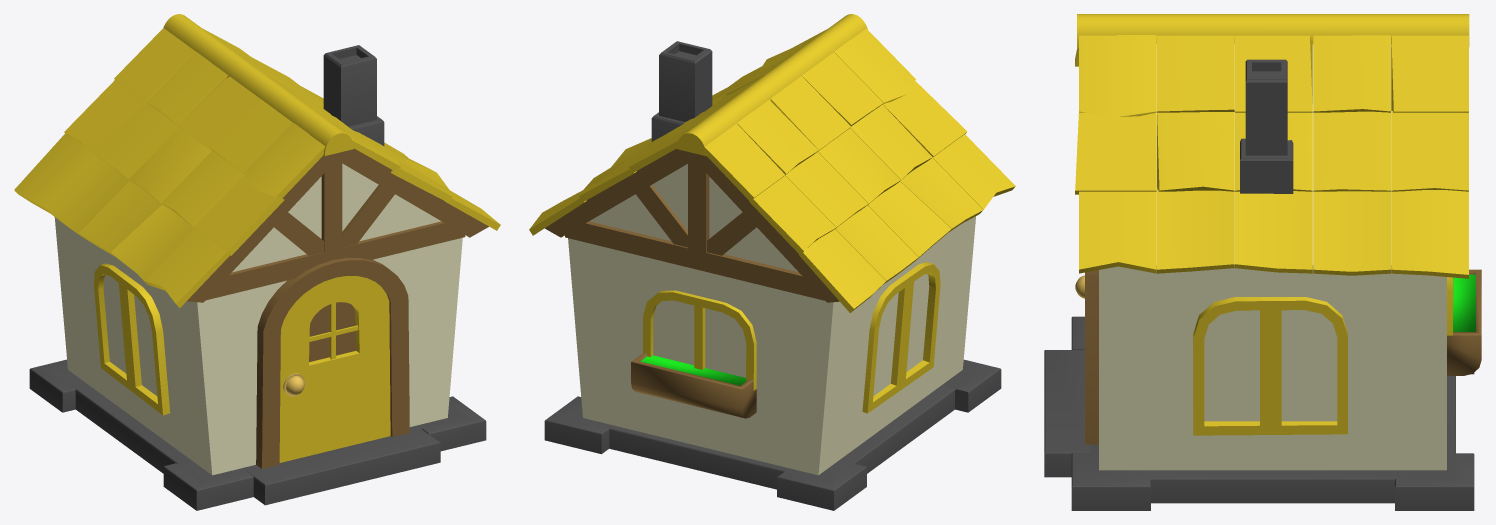
File: CASA AMARILLA.glb
The picture shows the model from 3 angles, left to right: view 1: azimuth 30°, elevation 25°; view 2: azimuth 150°, elevation 25°; view 3: azimuth 270°, elevation 25°; orthographic projection. The views are drawn at different scales.
Visible parts, largest first — view 1: Plane.003; view 2: Plane.003, Plane.001; view 3: Plane.003.
Boxes of the visible parts, x1,y1,x2,y2 form: Plane.003: (14, 14, 500, 510); Plane.003: (529, 14, 1015, 510); Plane.001: (643, 290, 756, 390); Plane.003: (1044, 14, 1481, 510).
Bounding box in the file's own units: 5.04 × 4.95 × 4.78.
